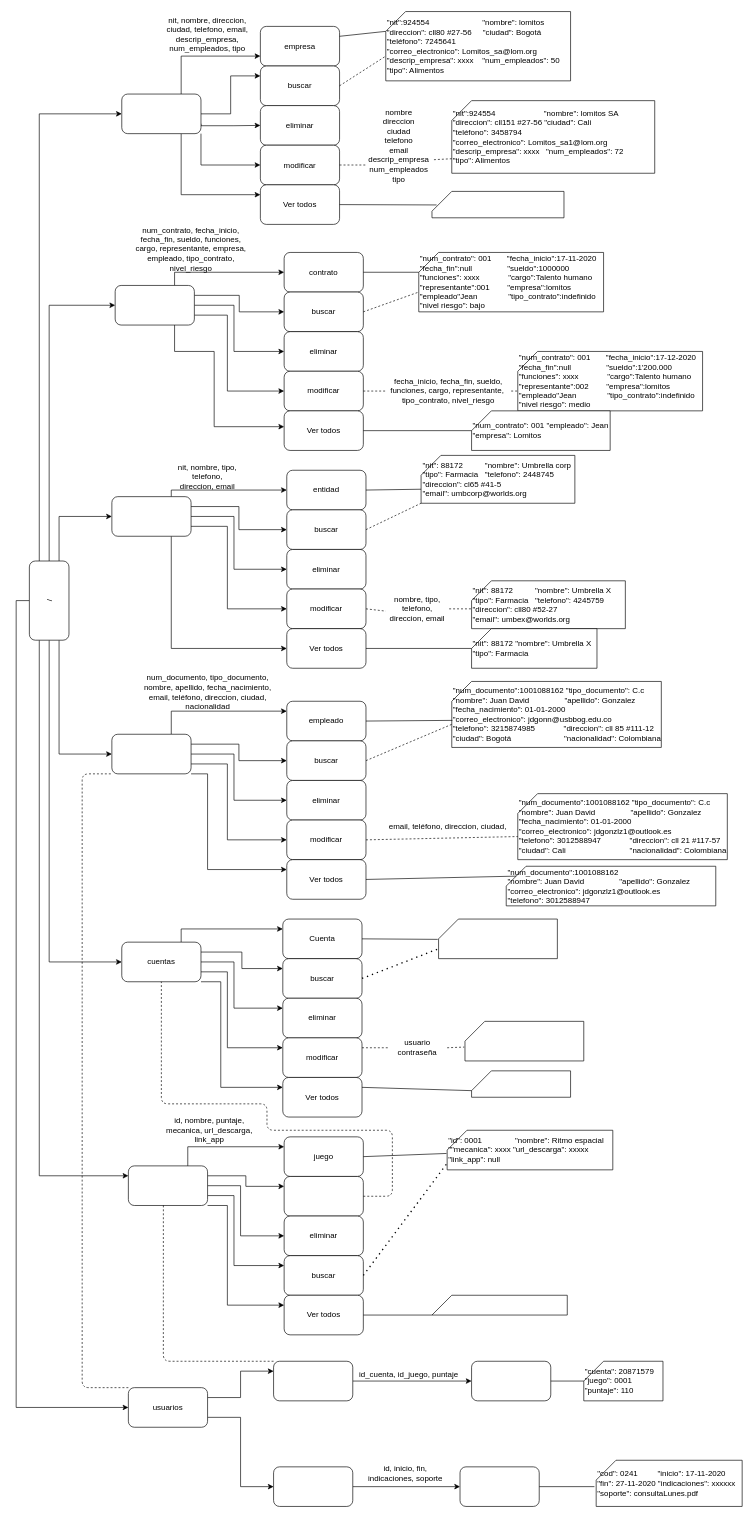
Some shapes in this 754 by 1518 pixel diagram are drawn without their labels. The box of each missing label's shape, as (x1, y1, x2, y2) in pixels:
"empleado": 20871579 "usuario": admin1 "contraseña": appausaemp1: (438, 918, 557, 959)
"empleado": 20871579 "usuario": adminSupremo: (471, 1070, 571, 1097)
"empleado": 20871579 "usuario": adminSupremo "contraseña": appausaadmins: (464, 1021, 584, 1061)
"id": 0001 "nombre" Ritmo espacial: (431, 1295, 567, 1315)
"nit" 924554 "nombre": lomitos SA: (431, 191, 564, 218)
asignar: (283, 1176, 363, 1216)
contratos: (115, 285, 194, 325)
empleados: (111, 734, 191, 774)
empresas: (121, 93, 201, 134)
entidades: (111, 496, 191, 536)
incapacidad: (459, 1466, 539, 1506)
incapacidades: (273, 1466, 353, 1506)
juegos: (128, 1165, 208, 1205)
jugar: (273, 1361, 353, 1401)
partida: (471, 1361, 551, 1401)
